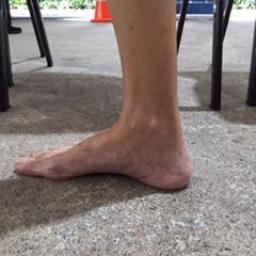Medial View -Right Foot-: (8, 95, 202, 198)
